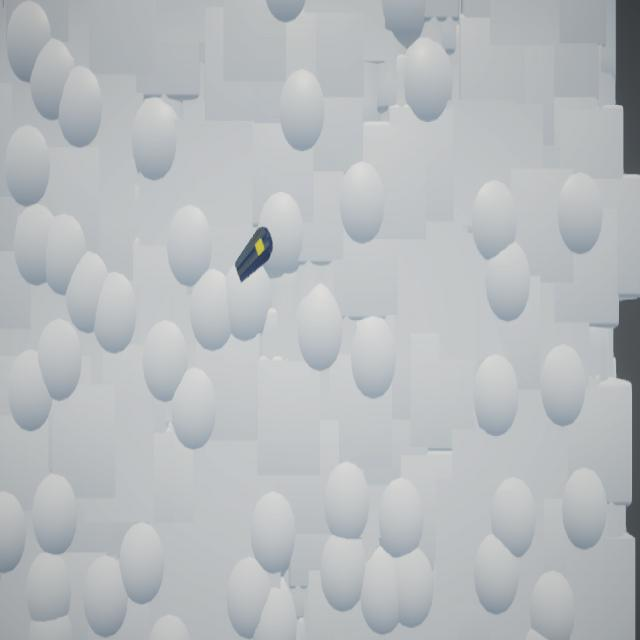handle_folk: (235, 227, 274, 284)
